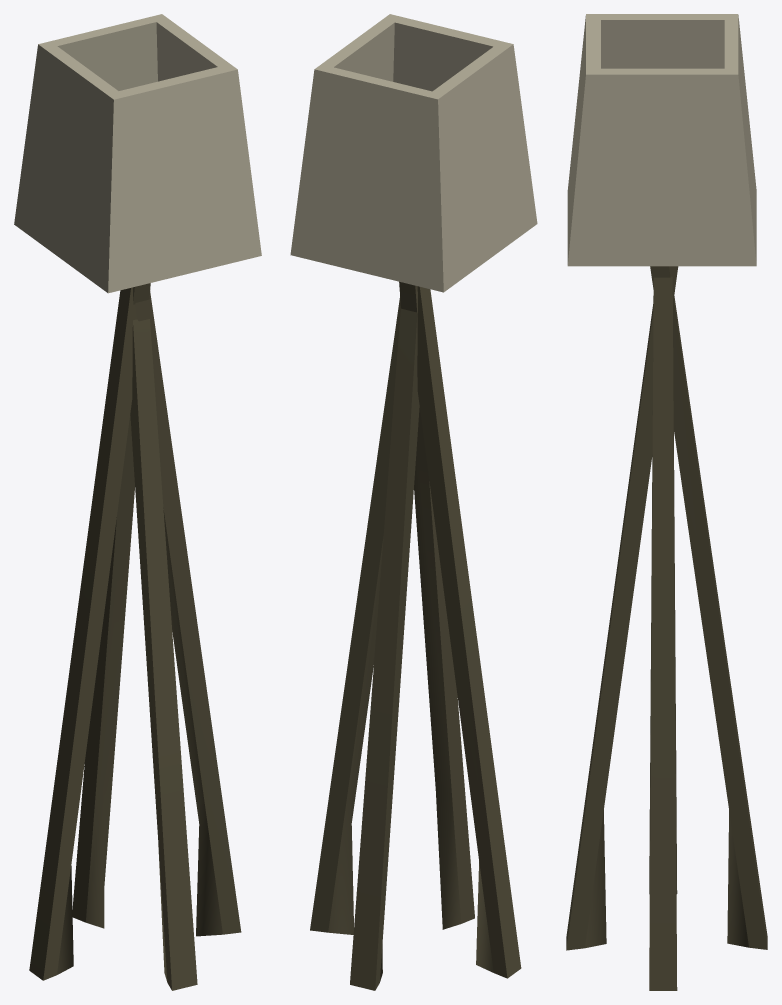
File: TallLamp.glb
3 views of the same model, side by side, from view 1: azimuth 30°, elevation 25°; view 2: azimuth 150°, elevation 25°; view 3: azimuth 270°, elevation 25° (orthographic).
Parts seen in each view (by area): view 1: fabric_light, pCube60, pCube63, pCube61, pCube62; view 2: fabric_light, pCube60, pCube62, pCube61, pCube63; view 3: fabric_light, pCube61, pCube62, pCube63, pCube60.
Part boxes in pixels (x1,y1,x2,y2): fabric_light: [14, 14, 261, 293]; pCube60: [29, 287, 136, 980]; pCube63: [130, 319, 197, 990]; pCube61: [132, 287, 241, 936]; pCube62: [72, 283, 150, 928]; fabric_light: [290, 14, 537, 292]; pCube60: [417, 286, 521, 978]; pCube62: [350, 308, 419, 990]; pCube61: [310, 296, 400, 934]; pCube63: [399, 281, 474, 929]; fabric_light: [567, 14, 756, 266]; pCube61: [649, 276, 677, 990]; pCube62: [650, 266, 767, 949]; pCube63: [566, 266, 678, 950]; pCube60: [649, 296, 677, 893].
Bounding box in the file's own units: 12.25 × 52.9 × 10.73.
